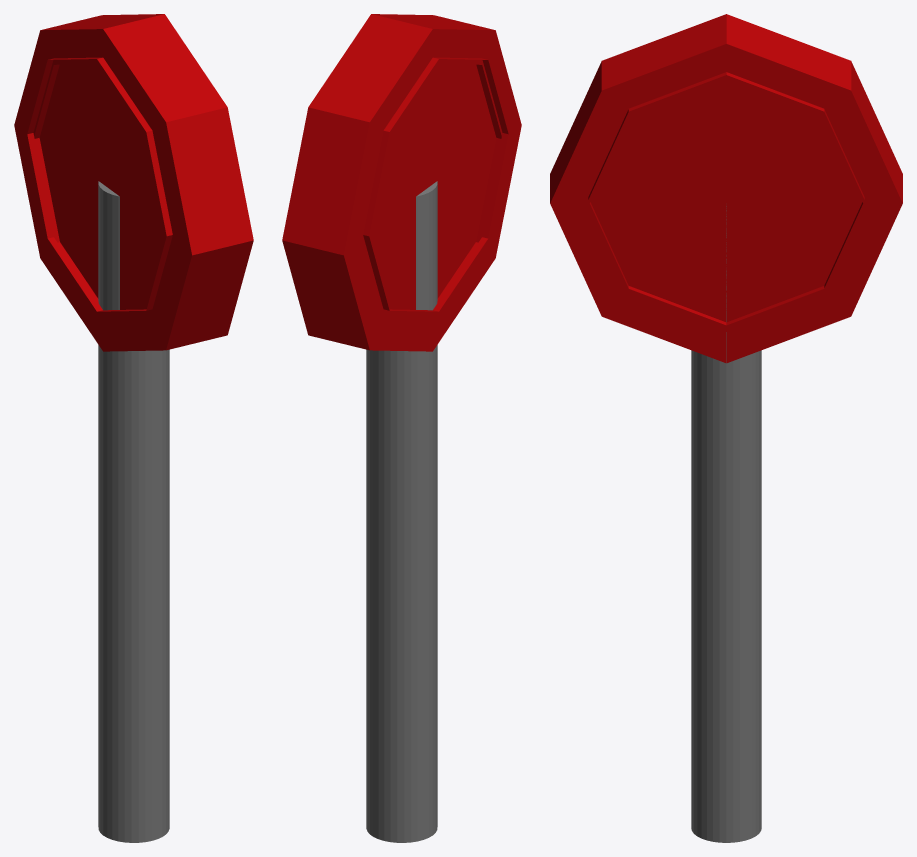
The model's file is stopsign.fbx.
3 renders of one model, left to right at view 1: azimuth 30°, elevation 25°; view 2: azimuth 150°, elevation 25°; view 3: azimuth 270°, elevation 25°, orthographic.
Parts seen in each view (by area): view 1: Cylinder.001, Cylinder; view 2: Cylinder.001, Cylinder; view 3: Cylinder.001, Cylinder.
Part boxes in pixels (x1,y1,x2,y2): Cylinder.001: (14,14,253,351); Cylinder: (98,181,169,842); Cylinder.001: (282,14,521,351); Cylinder: (366,181,437,842); Cylinder.001: (550,14,902,363); Cylinder: (691,206,761,842).
Size of the model in its own units: 12 by 125 by 50.
